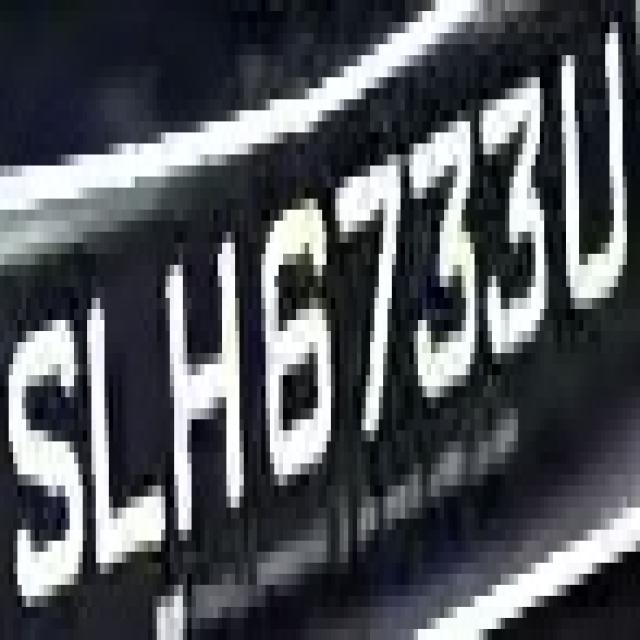3: (396, 100, 492, 442), (462, 77, 562, 375)
6: (248, 176, 331, 496)
7: (331, 144, 405, 464)
H: (152, 220, 252, 562)
L: (87, 265, 166, 574)
S: (9, 276, 87, 618)
U: (553, 22, 631, 364)
